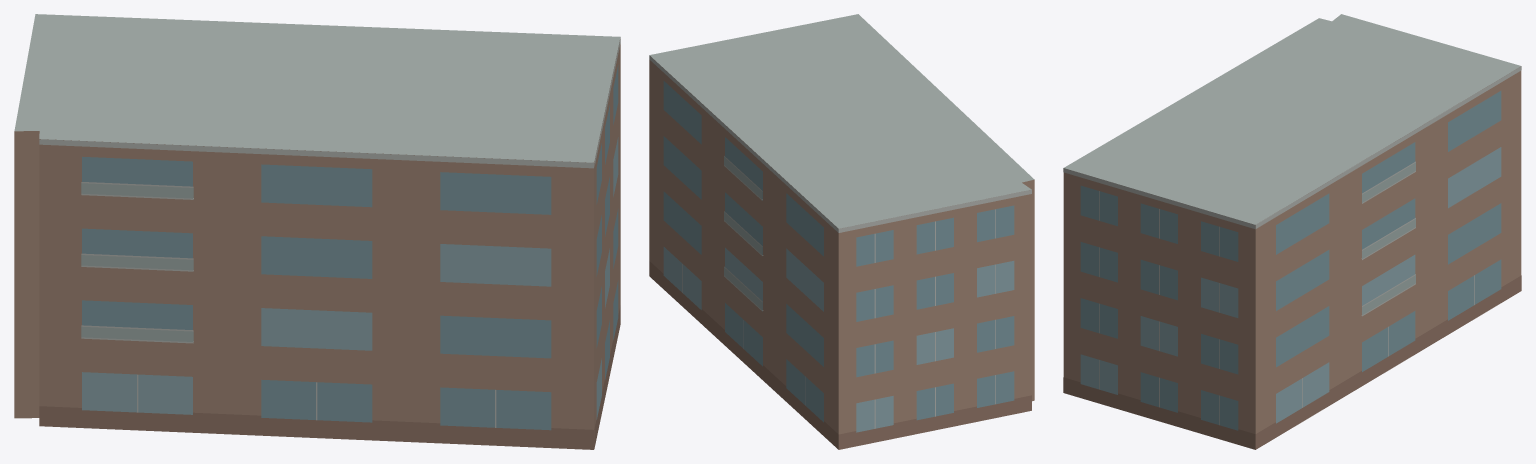
The model's file is survey-upis-32593256.glb.
3 renders of one model, left to right at view 1: azimuth 30°, elevation 25°; view 2: azimuth 150°, elevation 25°; view 3: azimuth 270°, elevation 25°, orthographic. The views are drawn at different scales.
Parts seen in each view (by area): view 1: survey-upis-32593256.tmp; view 2: survey-upis-32593256.tmp; view 3: survey-upis-32593256.tmp.
Boxes of the visible parts, <box> form: survey-upis-32593256.tmp: <box>14,14,620,449</box>; survey-upis-32593256.tmp: <box>649,14,1034,449</box>; survey-upis-32593256.tmp: <box>1063,14,1521,449</box>.
Size of the model in its own units: 25.13 by 12.5 by 23.06.
